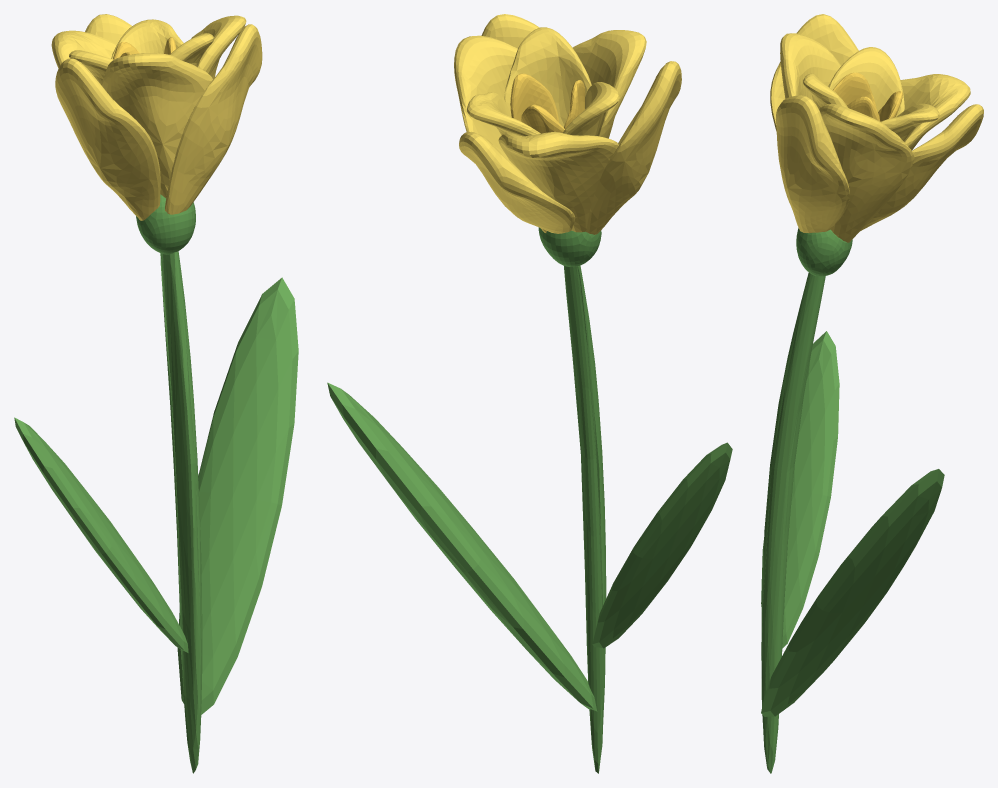
File: Gratitude_Freesia.glb
The picture shows the model from 3 angles, left to right: view 1: azimuth 30°, elevation 25°; view 2: azimuth 150°, elevation 25°; view 3: azimuth 270°, elevation 25°; orthographic projection. The views are drawn at different scales.
Visible parts, largest first — view 1: Cube.007; view 2: Cube.007; view 3: Cube.007.
Part boxes in pixels (x1,y1,x2,y2): Cube.007: (14,14,298,773); Cube.007: (327,14,732,773); Cube.007: (761,14,983,773).
Bounding box in the file's own units: 9.76 × 20.63 × 5.81.
